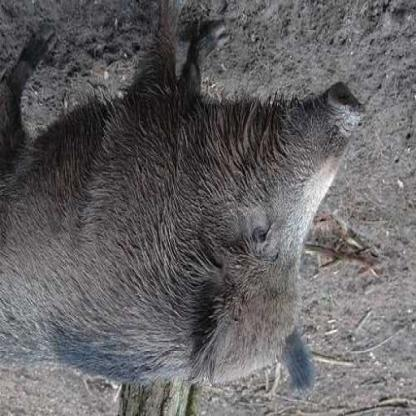boar: (14, 31, 367, 374)
